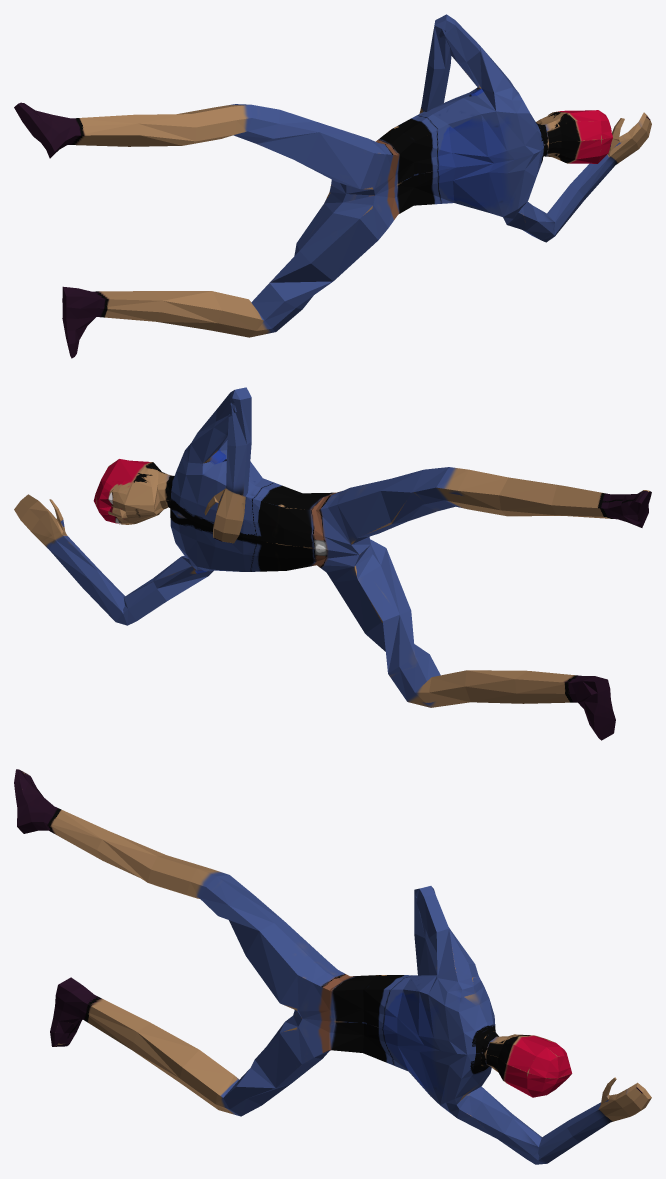
The model's file is mirrorman_000036.obj.
3 views of the same model, one above another, from view 1: azimuth 30°, elevation 25°; view 2: azimuth 150°, elevation 25°; view 3: azimuth 330°, elevation 25° (orthographic).
Parts seen in each view (by area): view 1: mirrorman_Cube.001_Material.001; view 2: mirrorman_Cube.001_Material.001; view 3: mirrorman_Cube.001_Material.001.
Part boxes in pixels (<box>): mirrorman_Cube.001_Material.001: <box>14,14,651,358</box>; mirrorman_Cube.001_Material.001: <box>14,387,651,740</box>; mirrorman_Cube.001_Material.001: <box>14,769,651,1164</box>.
Size of the model in its own units: 2.11 by 0.8768 by 0.2813.
Materials: 1 (1 with a texture image).
